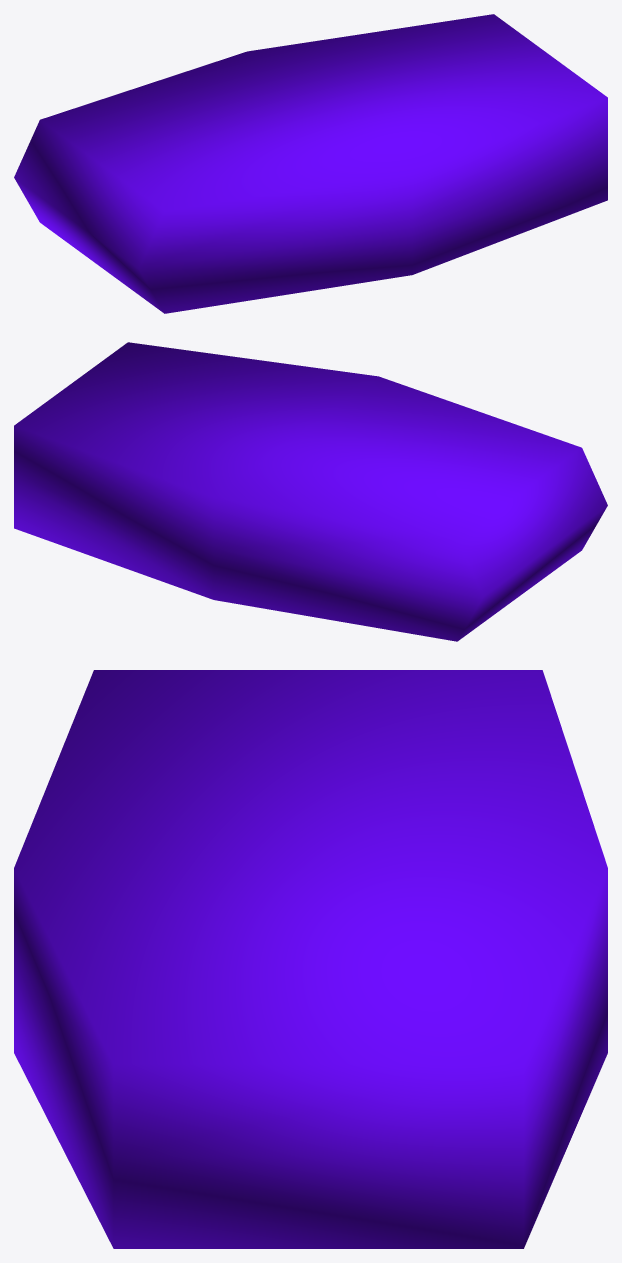
File: retail_shop_workers_creditCardReader_1_meshCollider.fbx
3 views of the same model, one above another, from view 1: azimuth 30°, elevation 25°; view 2: azimuth 150°, elevation 25°; view 3: azimuth 270°, elevation 25° (orthographic). The views are drawn at different scales.
Parts seen in each view (by area): view 1: retail_shop_workers_creditCardReader_1_meshCollider; view 2: retail_shop_workers_creditCardReader_1_meshCollider; view 3: retail_shop_workers_creditCardReader_1_meshCollider.
Boxes of the visible parts, box(x1,y1,x2,y2) form: retail_shop_workers_creditCardReader_1_meshCollider: box(14, 14, 607, 313); retail_shop_workers_creditCardReader_1_meshCollider: box(14, 342, 607, 641); retail_shop_workers_creditCardReader_1_meshCollider: box(14, 670, 607, 1248).
Bounding box in the file's own units: 20.83 × 4.31 × 12.55.
